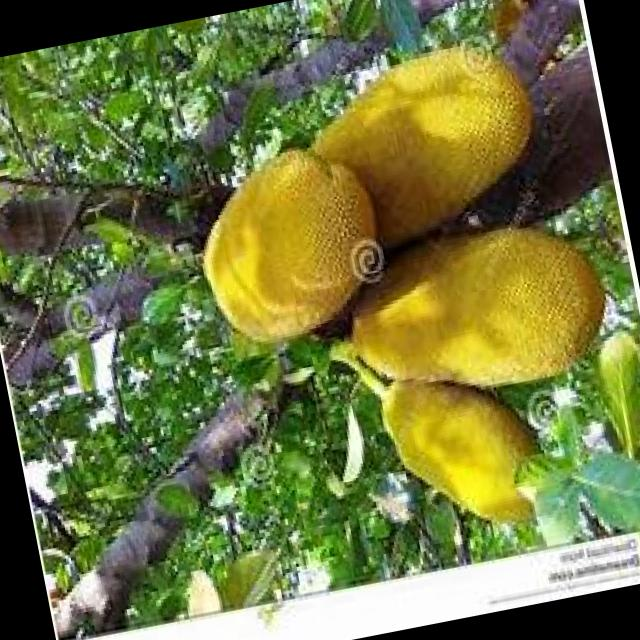Fruit: (310, 177, 640, 436), (272, 8, 582, 280), (161, 115, 420, 377), (356, 339, 581, 563)
